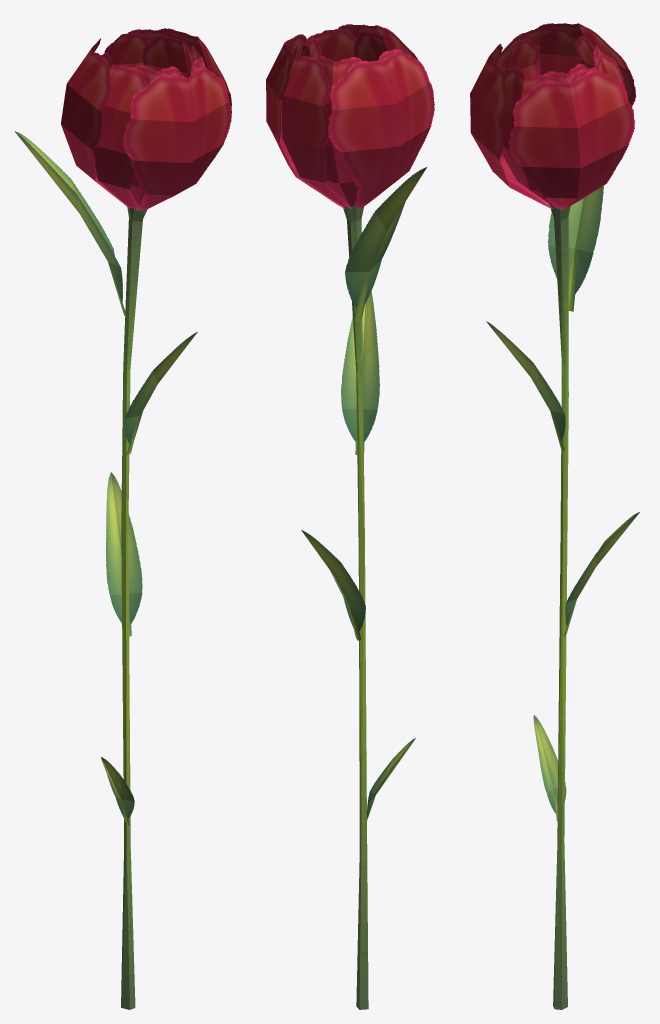
Rendered from VEG0310013.fbx.
3 views of the same model, side by side, from view 1: azimuth 30°, elevation 25°; view 2: azimuth 150°, elevation 25°; view 3: azimuth 270°, elevation 25° (orthographic).
Parts seen in each view (by area): view 1: smVEG0310013; view 2: smVEG0310013; view 3: smVEG0310013.
Boxes of the visible parts, x1,y1,x2,y2 form: smVEG0310013: (15, 28, 231, 1009); smVEG0310013: (266, 24, 434, 1009); smVEG0310013: (470, 23, 639, 1009).
Bounding box in the file's own units: 10.7 × 55.41 × 9.06.
1 material, 1 textured.
